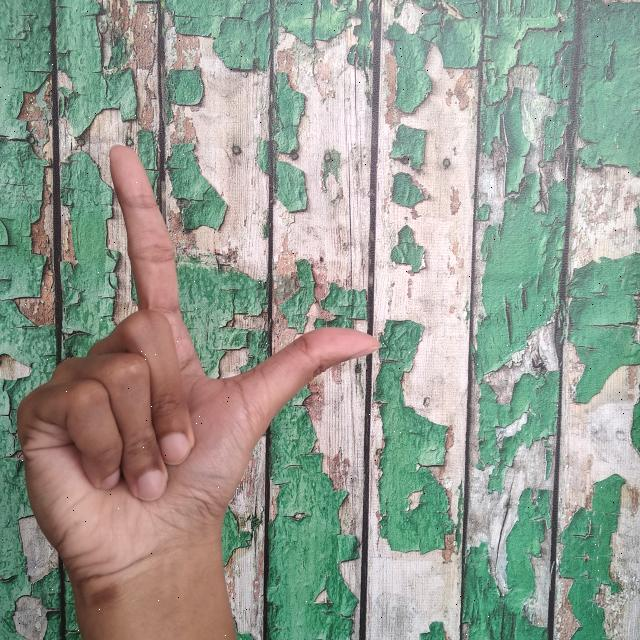L: (16, 136, 387, 640)
